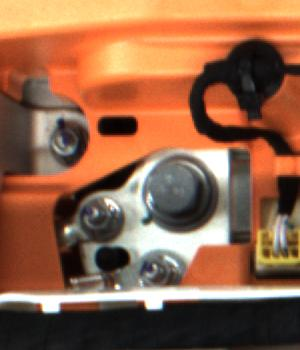nut_b: (140, 152, 218, 228)
